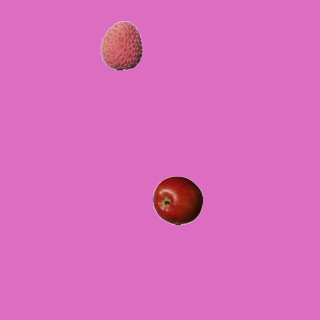Apple Braeburn: (152, 175, 202, 225)
Lychee: (96, 20, 146, 70)
